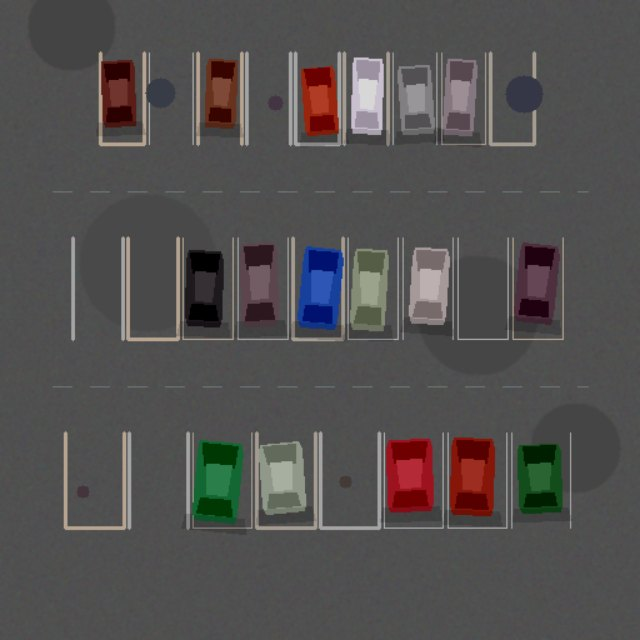space-empty: (65, 432, 124, 528), (320, 432, 379, 528), (129, 432, 187, 528), (73, 237, 123, 339), (127, 237, 177, 339), (457, 237, 507, 339), (149, 52, 193, 144), (246, 52, 290, 144), (490, 52, 534, 144)
space-occupied: (256, 432, 315, 528), (384, 432, 443, 528), (447, 432, 506, 528), (511, 432, 570, 528), (193, 432, 251, 528), (183, 237, 233, 339), (237, 237, 287, 339), (293, 237, 343, 339), (347, 237, 397, 339), (403, 237, 453, 339), (513, 237, 563, 339), (100, 52, 144, 144), (197, 52, 241, 144), (295, 52, 339, 144), (441, 52, 485, 144), (344, 52, 387, 144), (393, 52, 436, 144)
